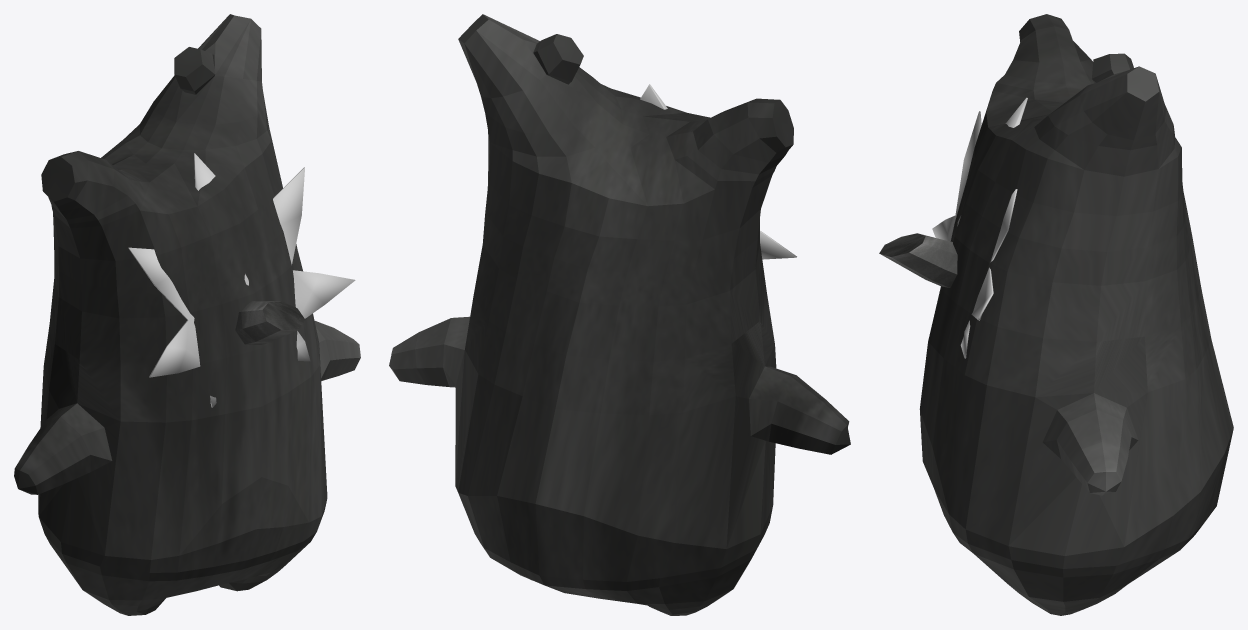
File: frame_0051.obj
3 views of the same model, side by side, from view 1: azimuth 30°, elevation 25°; view 2: azimuth 150°, elevation 25°; view 3: azimuth 270°, elevation 25° (orthographic). The views are drawn at different scales.
Parts seen in each view (by area): view 1: korok, leaf.003_柱体.013, nose.003_柱体.011; view 2: korok, leaf.003_柱体.013; view 3: korok, nose.003_柱体.011, leaf.003_柱体.013.
Boxes of the visible parts, box(x1,y1,x2,y2) form: korok: box(14, 14, 360, 615); leaf.003_柱体.013: box(128, 153, 355, 407); nose.003_柱体.011: box(235, 301, 305, 344); korok: box(389, 14, 850, 615); leaf.003_柱体.013: box(640, 84, 796, 259); korok: box(919, 14, 1233, 615); nose.003_柱体.011: box(879, 233, 957, 287); leaf.003_柱体.013: box(932, 97, 1027, 358).
Size of the model in its own units: 1.7 by 2.3 by 1.31.
